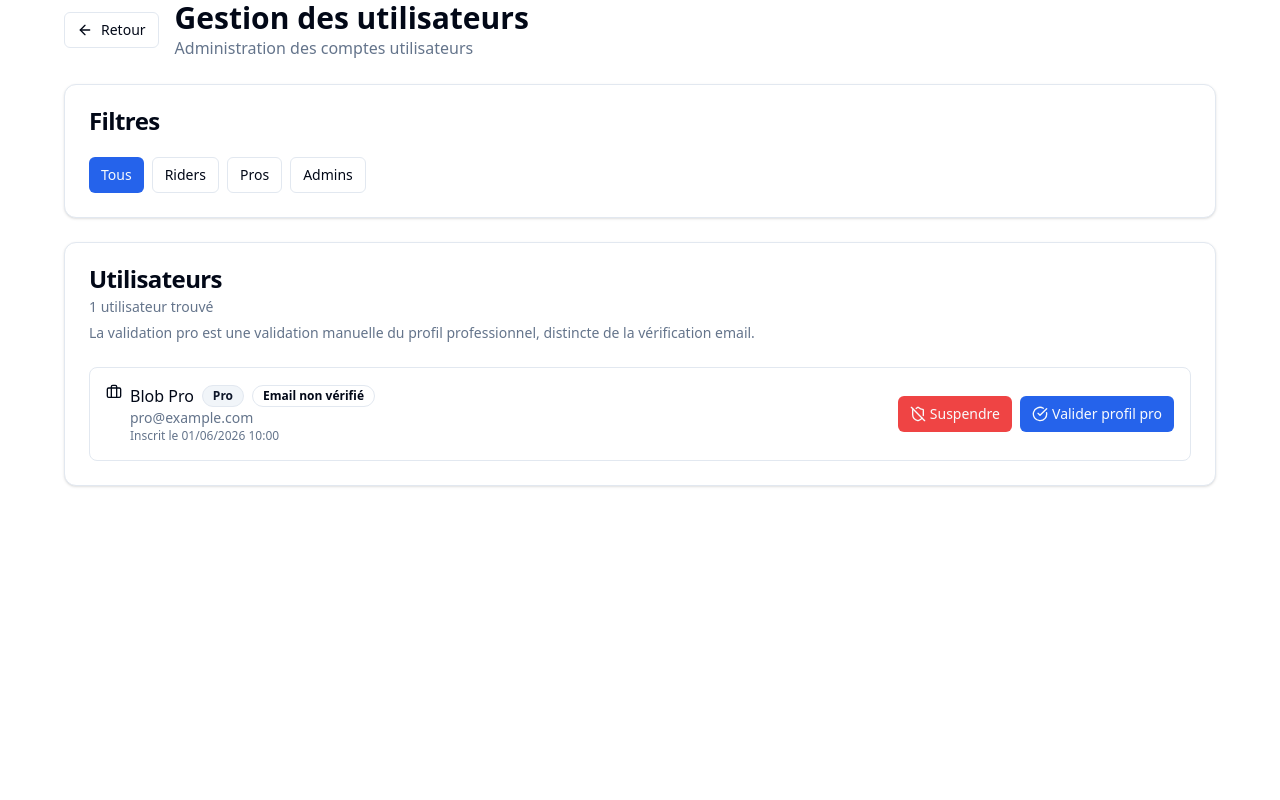
Test case: AdminUsers › ouvre la modale avec un seul envoi automatique en StrictMode
Click the button "Valider profil pro".
click(1097, 414)  # box [1020, 396, 1174, 432]
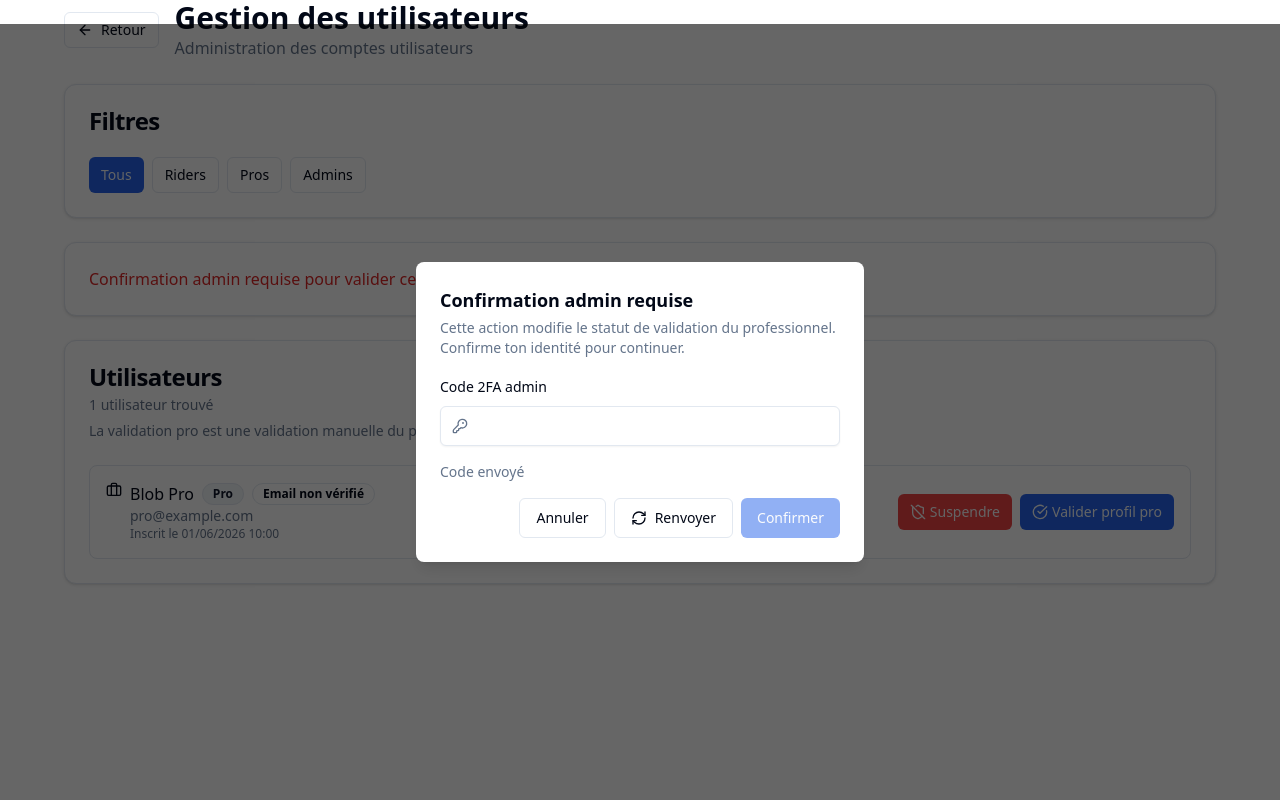
Expected: the heading "Confirmation admin requise" is shown, [440, 288, 693, 312]
